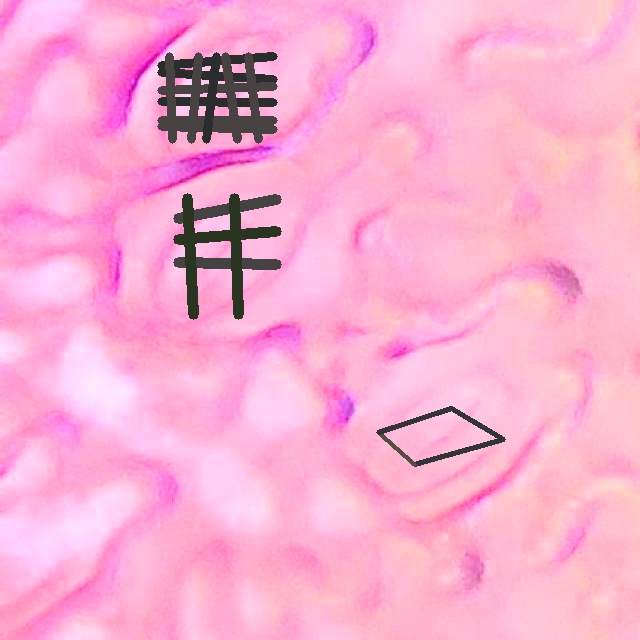close: (173, 194, 280, 319), (157, 52, 277, 143), (376, 406, 505, 466)
